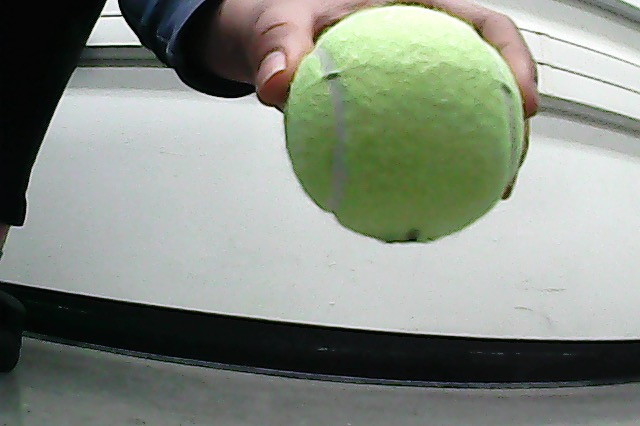ball: (281, 4, 527, 248)
